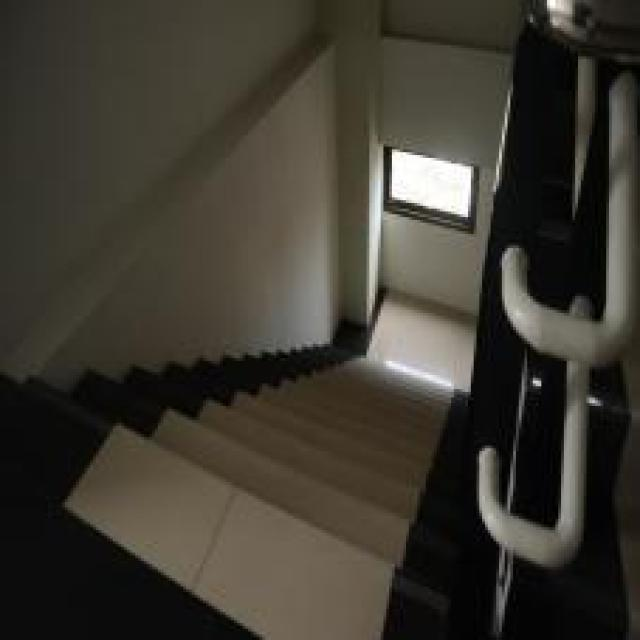downstair: (24, 306, 433, 638)
